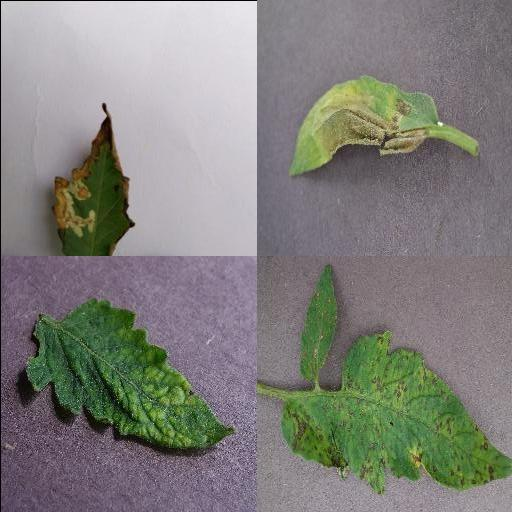Late Blight: (284, 73, 442, 179)
Leaf Miner: (51, 116, 135, 256)
Mosaic Virus: (25, 297, 235, 451)
Septoria: (279, 331, 511, 494)
